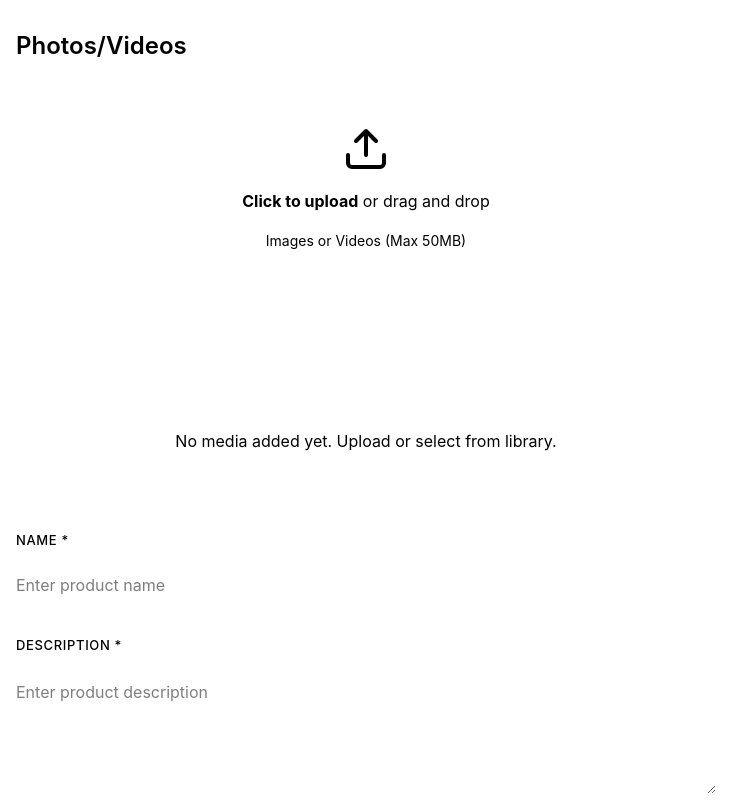
Test: ProductForm - Draft Saving for New Products › disables buttons when price is negative
Type "Test Product" into the field labelled "Name *".
click(366, 585); type("Test Product")  # box [16,563,716,607]
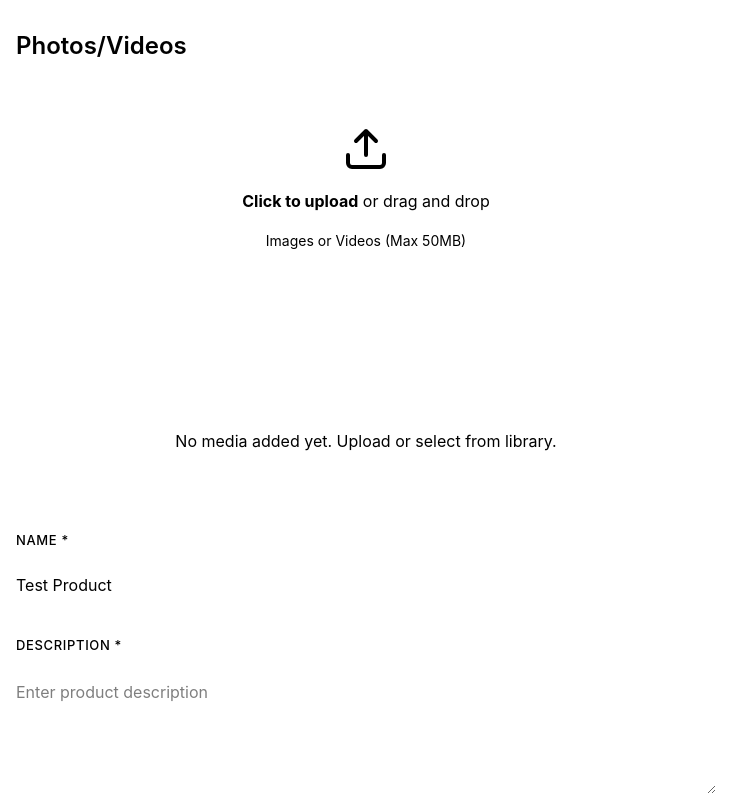
Type "Test Description" into the text box labelled "Description *".
click(366, 731); type("Test Description")  # box [16,668,716,794]
(page scrolled)
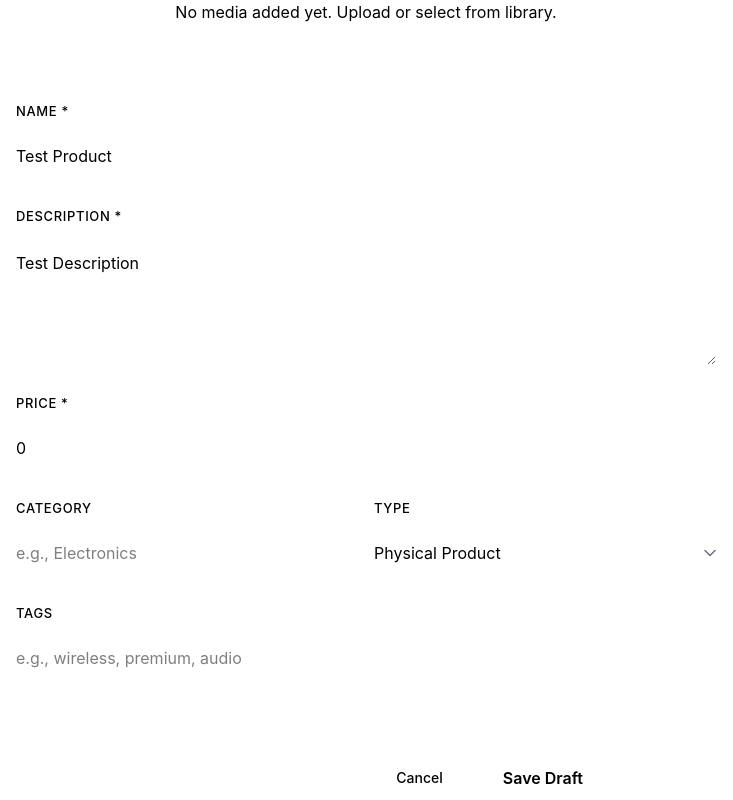
Replace the text in the number field labelled "Price *" with "-10" at (366,448), box [16,426,716,470]
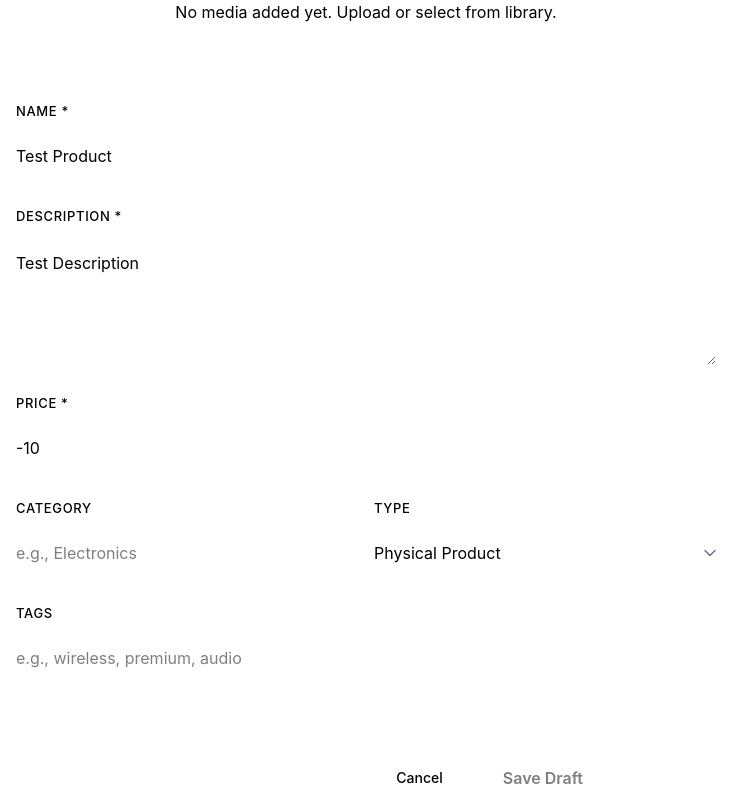
Expected: the button "Save Draft" is disabled, [479,756,607,799]
